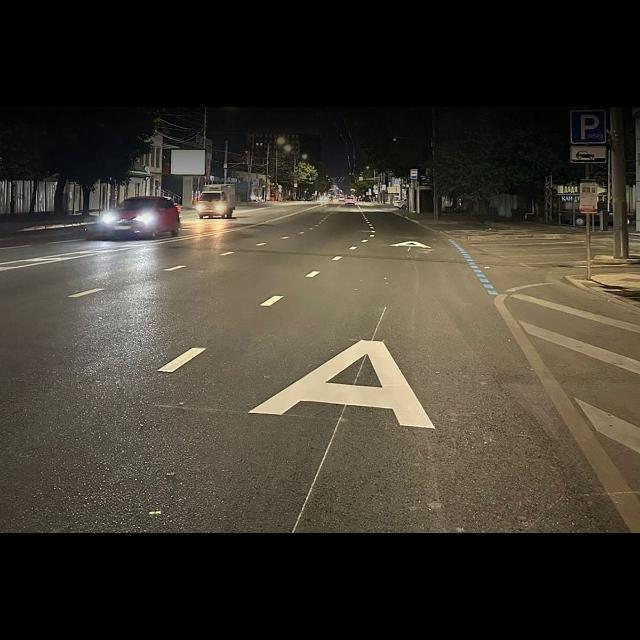road: (0, 202, 639, 533)
